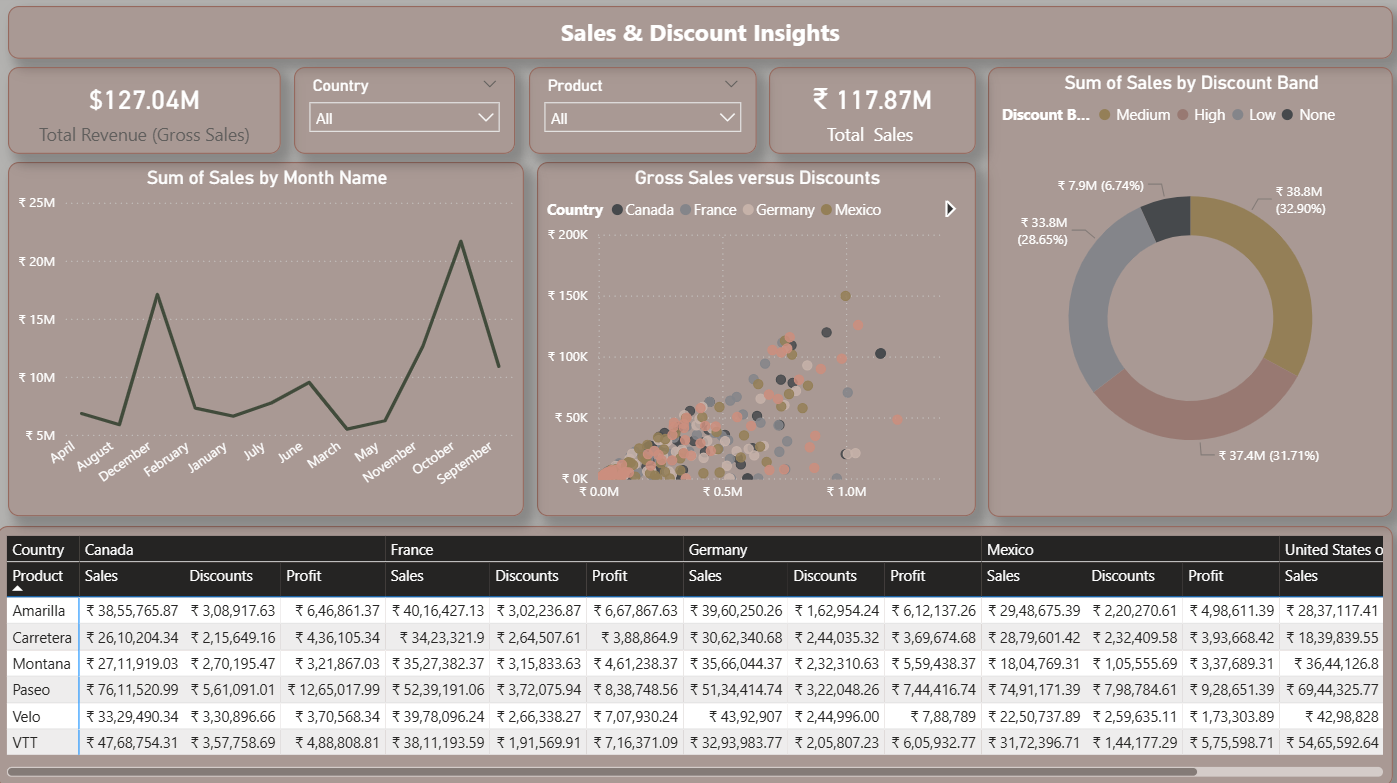

The page's visual inventory and layout, read from the dashboard file:
{"tool":"powerbi","page":{"name":"Sales & Discount Insight","canvas":[1280,720],"ordinal":1},"visuals":[{"type":"textbox","box":[10,10,1259,48],"z":0},{"type":"scatterChart","title":"Gross Sales  versus  Discounts ","fields":{"X":["financial_data. Gross Sales "],"Y":["financial_data. Discounts "],"Series":["financial_data.Country"]},"box":[491,152,399,322],"z":1000},{"type":"donutChart","fields":{"Category":["financial_data. Discount Band "],"Y":["Sum(financial_data.  Sales )"]},"box":[901,65,368,409],"z":2000},{"type":"pivotTable","fields":{"Values":["Sum(financial_data.  Sales )","Sum(financial_data. Discounts )","Sum(financial_data. Profit )"],"Rows":["financial_data. Product "],"Columns":["financial_data.Country"]},"box":[0,483,1269,237],"z":3000},{"type":"lineChart","fields":{"Y":["Sum(financial_data.  Sales )"],"Category":["financial_data. Month Name "]},"box":[10,152,469,322],"z":4000},{"type":"card","fields":{"Values":["Measure.Total Revenue (Gross Sales)"]},"box":[10,65,248,79],"z":5000},{"type":"slicer","fields":{"Values":["financial_data.Country"]},"box":[270,65,201,79],"z":6000},{"type":"slicer","fields":{"Values":["financial_data. Product "]},"box":[484,65,207,79],"z":7000},{"type":"card","fields":{"Values":["Sum(financial_data.  Sales )"]},"box":[702,65,188,79],"z":8000}]}

Visuals, with their boxes in screenshot pixels (x1, y1, x2, y2), scaled from the page's 1280x720 canvas onto the 1397x783 screenshot:
textbox: detection(11, 11, 1385, 63)
"Gross Sales  versus  Discounts " scatterChart: detection(536, 165, 971, 515)
donutChart - financial_data. Discount Band  x Sum(financial_data.  Sales ): detection(983, 71, 1385, 515)
pivotTable - Sum(financial_data.  Sales ) x Sum(financial_data. Discounts ): detection(0, 525, 1385, 782)
lineChart - Sum(financial_data.  Sales ) x financial_data. Month Name : detection(11, 165, 523, 515)
card - Measure.Total Revenue (Gross Sales): detection(11, 71, 282, 157)
slicer - financial_data.Country: detection(295, 71, 514, 157)
slicer - financial_data. Product : detection(528, 71, 754, 157)
card - Sum(financial_data.  Sales ): detection(766, 71, 971, 157)
